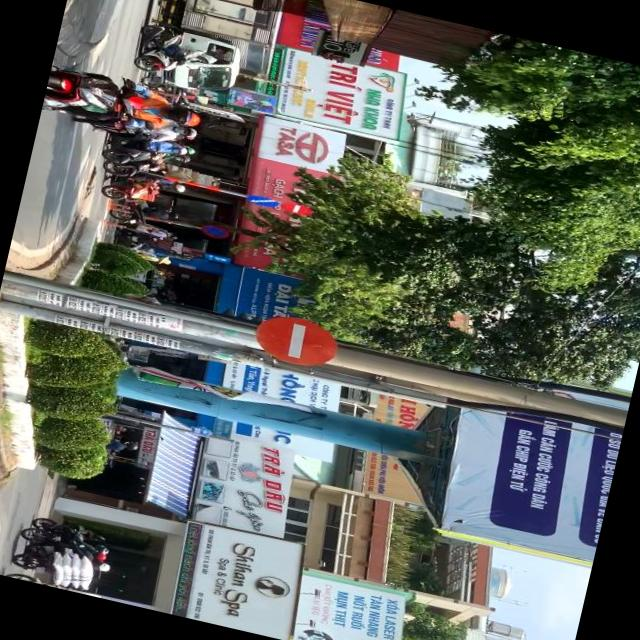P-102: (252, 310, 342, 370)
